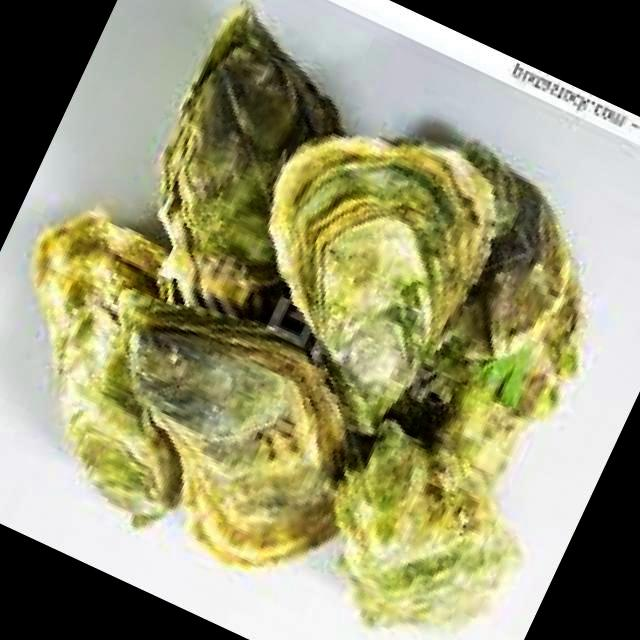Oyster-Closed: (270, 138, 495, 432), (122, 295, 345, 563), (159, 8, 341, 321), (35, 211, 182, 526), (335, 420, 518, 623)
